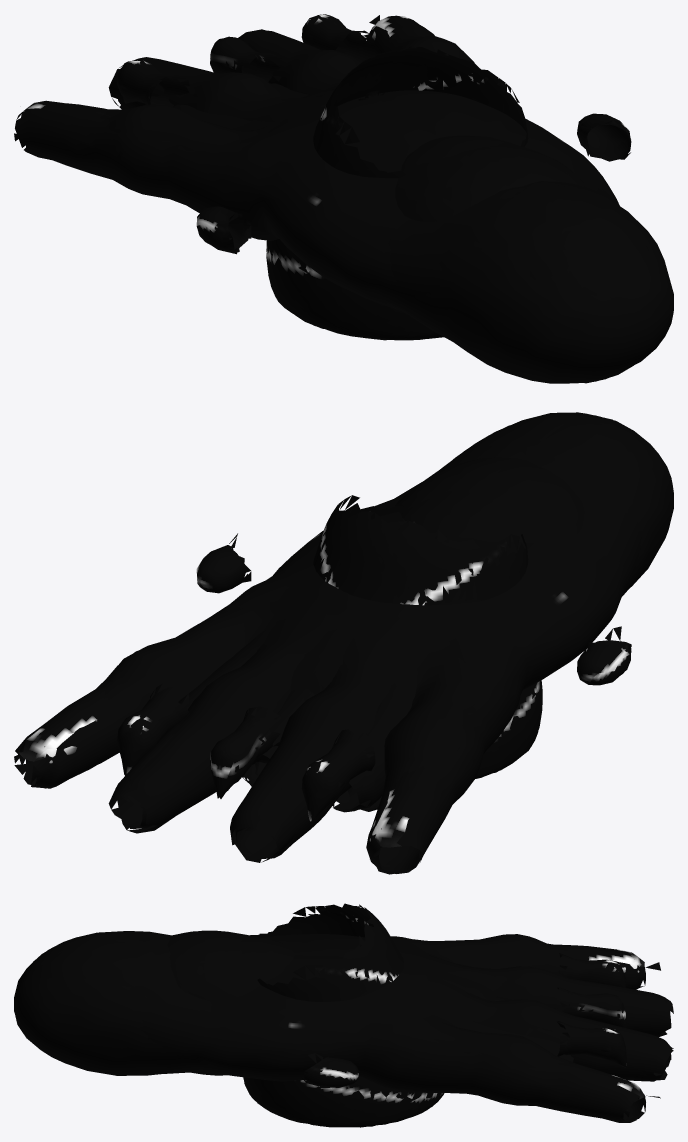
File: CurseFeet.obj
3 renders of one model, top to bottom at view 1: azimuth 30°, elevation 25°; view 2: azimuth 150°, elevation 25°; view 3: azimuth 270°, elevation 25°, orthographic. The views are drawn at different scales.
Visible parts, largest first — view 1: SplayedFoot_Skin_L, SplayedFoot_Skin, HoofFoot_Claw, HoofFoot_Claw_L, ClawedFoot_Skin_L, TalonFoot_Claw, ClawedFoot_Skin, SplayedFoot_Claw, TalonFoot_Claw_L, SplayedFoot_Claw_L, Foot_Skin_L, Foot_Skin; view 2: SplayedFoot_Skin_L, SplayedFoot_Skin, HoofFoot_Claw, ClawedFoot_Skin_L, HoofFoot_Claw_L, TalonFoot_Claw, ClawedFoot_Skin, TalonFoot_Claw_L, Foot_Skin_L, Foot_Skin, SplayedFoot_Claw, SplayedFoot_Claw_L; view 3: SplayedFoot_Skin, SplayedFoot_Skin_L, HoofFoot_Claw_L, HoofFoot_Claw, ClawedFoot_Skin, TalonFoot_Claw_L, ClawedFoot_Skin_L, TalonFoot_Claw, Foot_Skin, SplayedFoot_Claw_L, Foot_Skin_L.
Boxes of the visible parts, box(x1,y1,x2,y2) form: SplayedFoot_Skin_L: box(15, 15, 649, 383); SplayedFoot_Skin: box(14, 15, 673, 383); HoofFoot_Claw: box(266, 46, 528, 340); HoofFoot_Claw_L: box(266, 46, 527, 340); ClawedFoot_Skin_L: box(222, 83, 584, 221); TalonFoot_Claw: box(116, 14, 375, 106); ClawedFoot_Skin: box(172, 83, 584, 221); SplayedFoot_Claw: box(196, 116, 631, 252); TalonFoot_Claw_L: box(119, 14, 372, 105); SplayedFoot_Claw_L: box(203, 113, 630, 254); Foot_Skin_L: box(305, 90, 473, 171); Foot_Skin: box(300, 90, 511, 148); SplayedFoot_Skin_L: box(14, 413, 673, 873); SplayedFoot_Skin: box(15, 412, 670, 874); HoofFoot_Claw: box(314, 495, 542, 778); ClawedFoot_Skin_L: box(179, 457, 584, 812); HoofFoot_Claw_L: box(313, 502, 542, 778); TalonFoot_Claw: box(117, 687, 374, 821); ClawedFoot_Skin: box(178, 458, 585, 811); TalonFoot_Claw_L: box(116, 684, 375, 821); Foot_Skin_L: box(260, 494, 513, 762); Foot_Skin: box(259, 491, 473, 763); SplayedFoot_Claw: box(208, 533, 631, 685); SplayedFoot_Claw_L: box(196, 545, 631, 674); SplayedFoot_Skin: box(14, 931, 673, 1122); SplayedFoot_Skin_L: box(14, 932, 673, 1121); HoofFoot_Claw_L: box(243, 904, 443, 1127); HoofFoot_Claw: box(243, 903, 444, 1127); ClawedFoot_Skin: box(167, 931, 570, 1075); TalonFoot_Claw_L: box(556, 955, 626, 1067); ClawedFoot_Skin_L: box(167, 930, 573, 1062); TalonFoot_Claw: box(557, 953, 626, 1065); Foot_Skin: box(241, 942, 497, 1001); SplayedFoot_Claw_L: box(304, 914, 359, 1087); Foot_Skin_L: box(241, 936, 496, 1000).
Size of the model in its own units: 0.7692 by 0.4012 by 1.39.
Materials: 10 (10 with a texture image).
